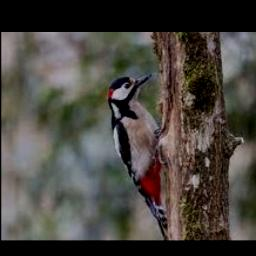Woodpecker: (108, 73, 168, 241)
